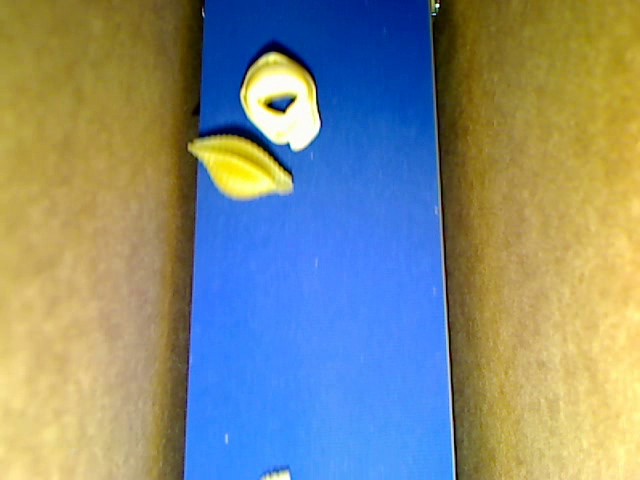shell: (187, 133, 292, 200)
tortellini: (238, 51, 320, 153)
